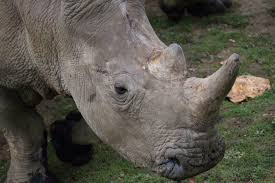Rhinoceros: (4, 2, 243, 181)
